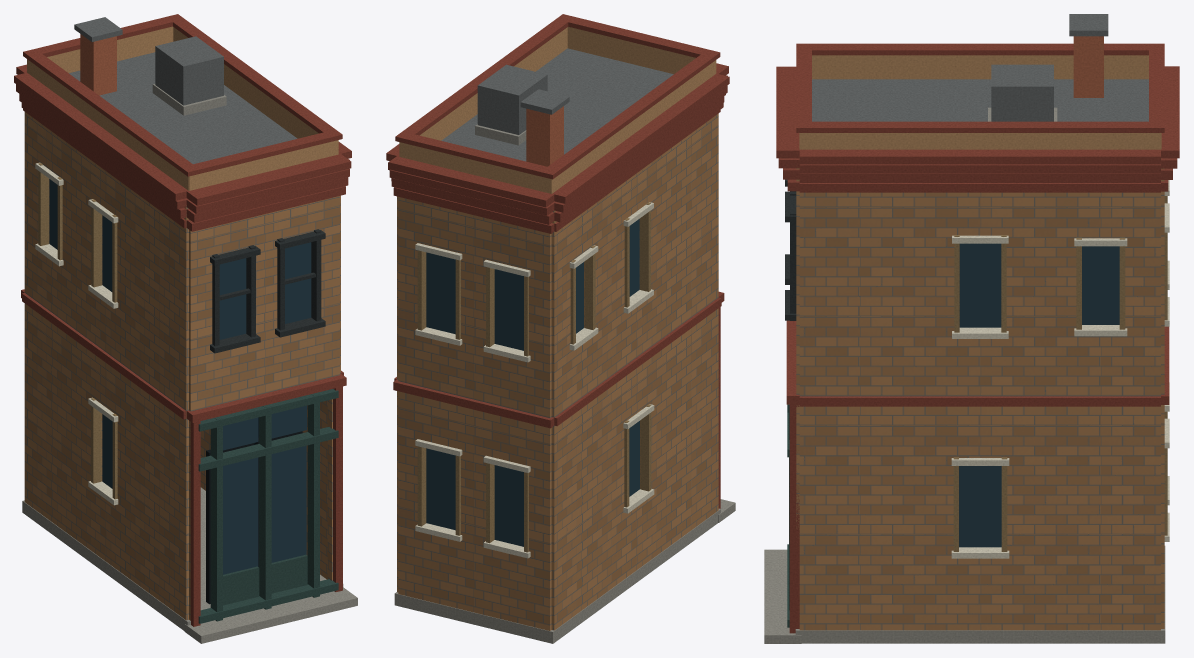
File: BUSS1_lod2.glb
The picture shows the model from 3 angles, left to right: view 1: azimuth 30°, elevation 25°; view 2: azimuth 150°, elevation 25°; view 3: azimuth 270°, elevation 25°; orthographic projection. The views are drawn at different scales.
Parts seen in each view (by area): view 1: BUSS1_LOD2; view 2: BUSS1_LOD2; view 3: BUSS1_LOD2.
Boxes of the visible parts, x1,y1,x2,y2 form: BUSS1_LOD2: [14, 14, 357, 643]; BUSS1_LOD2: [386, 14, 735, 643]; BUSS1_LOD2: [764, 14, 1179, 643].
Bounding box in the file's own units: 3.78 × 10.25 × 6.9.
12 materials, 10 textured.
